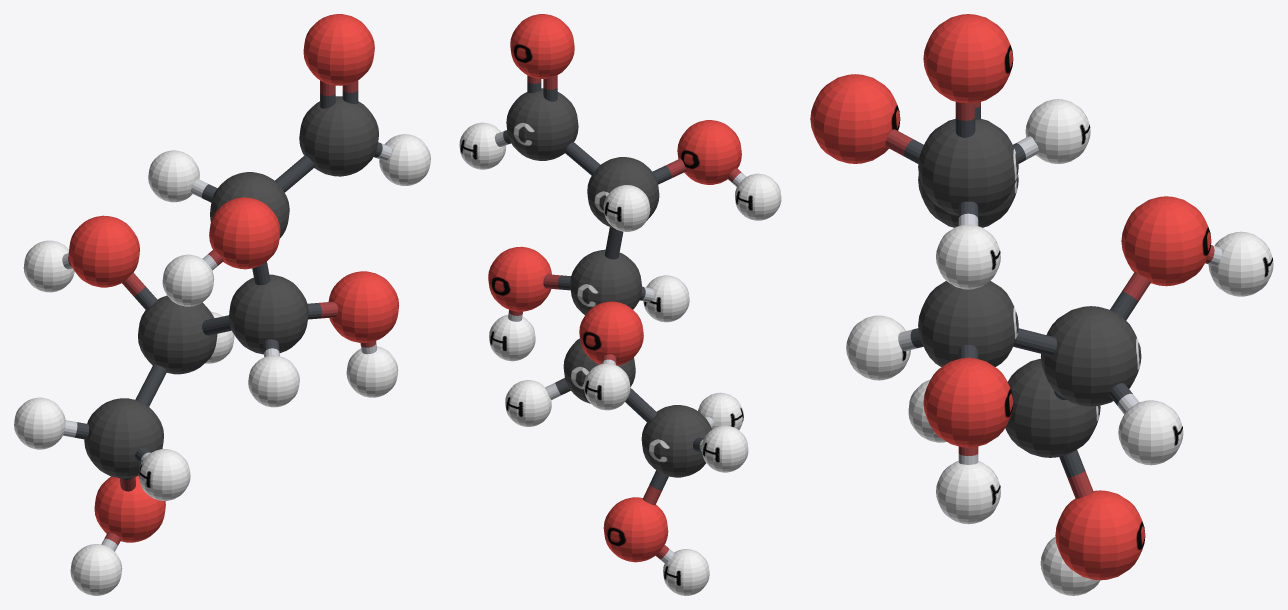
The model's file is Pentosa.fbx.
3 views of the same model, side by side, from view 1: azimuth 30°, elevation 25°; view 2: azimuth 150°, elevation 25°; view 3: azimuth 270°, elevation 25° (orthographic). The views are drawn at different scales.
Visible parts, largest first — view 1: Shape_Cylinder; view 2: Shape_Cylinder; view 3: Shape_Cylinder.
Part boxes in pixels (x1,y1,x2,y2): Shape_Cylinder: (14, 14, 430, 595); Shape_Cylinder: (459, 14, 781, 595); Shape_Cylinder: (810, 14, 1273, 595).
Bounding box in the file's own units: 13.22 × 19.49 × 11.73.
Materials: 6 (3 with a texture image).
